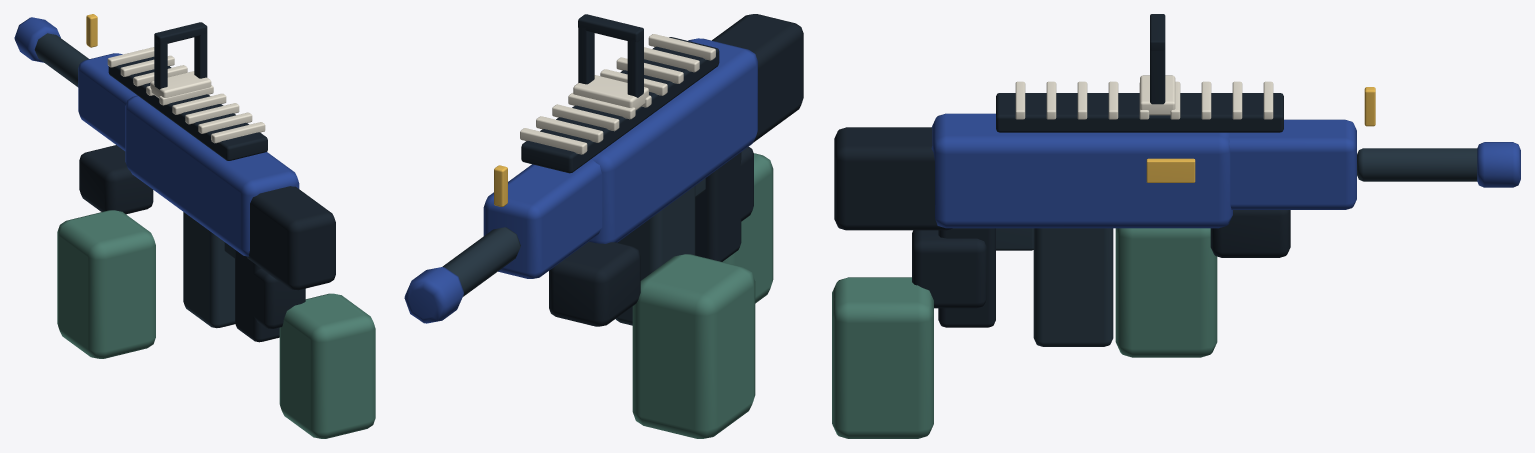
Rendered from rifle.glb.
3 renders of one model, left to right at view 1: azimuth 30°, elevation 25°; view 2: azimuth 150°, elevation 25°; view 3: azimuth 270°, elevation 25°, orthographic. The views are drawn at different scales.
Parts seen in each view (by area): view 1: rifle_green, rifle_dark, rifle_blue, rifle_ink, rifle_cream, rifle_yellow; view 2: rifle_blue, rifle_dark, rifle_green, rifle_cream, rifle_ink, rifle_yellow; view 3: rifle_blue, rifle_dark, rifle_green, rifle_ink, rifle_cream, rifle_yellow.
Part boxes in pixels (x1,y1,x2,y2): rifle_green: [57, 210, 375, 438]; rifle_dark: [79, 22, 335, 342]; rifle_blue: [14, 17, 299, 256]; rifle_ink: [34, 33, 235, 328]; rifle_cream: [107, 47, 265, 143]; rifle_yellow: [86, 14, 97, 47]; rifle_blue: [404, 38, 757, 323]; rifle_dark: [521, 14, 803, 326]; rifle_green: [632, 153, 773, 438]; rifle_cream: [520, 34, 715, 154]; rifle_ink: [442, 178, 705, 325]; rifle_yellow: [494, 165, 507, 206]; rifle_blue: [931, 113, 1520, 228]; rifle_dark: [834, 14, 1290, 327]; rifle_green: [832, 228, 1217, 438]; rifle_ink: [996, 148, 1477, 346]; rifle_cream: [1015, 75, 1273, 119]; rifle_yellow: [1146, 87, 1375, 182].
Size of the model in its own units: 0.525 by 0.948 by 1.55.
